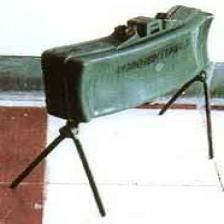MOH-50: (46, 6, 212, 117)
